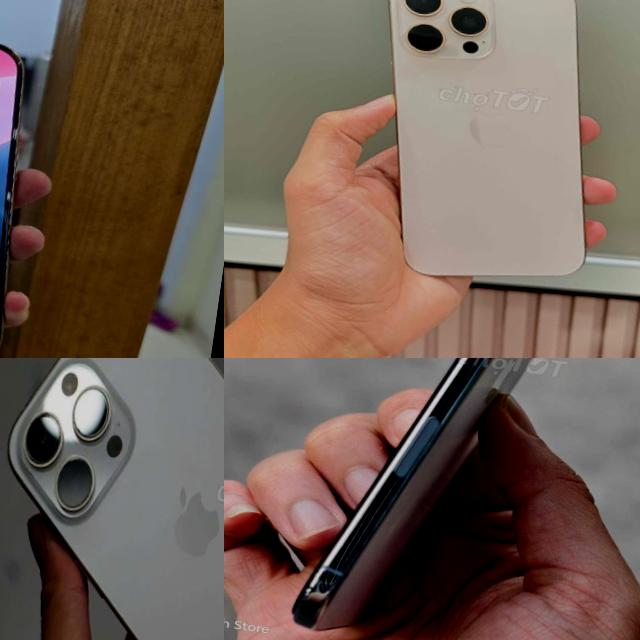gen_15: (0, 358, 224, 640)
gen_16: (389, 0, 584, 275), (0, 14, 54, 358)
gen_17: (292, 358, 532, 630)
